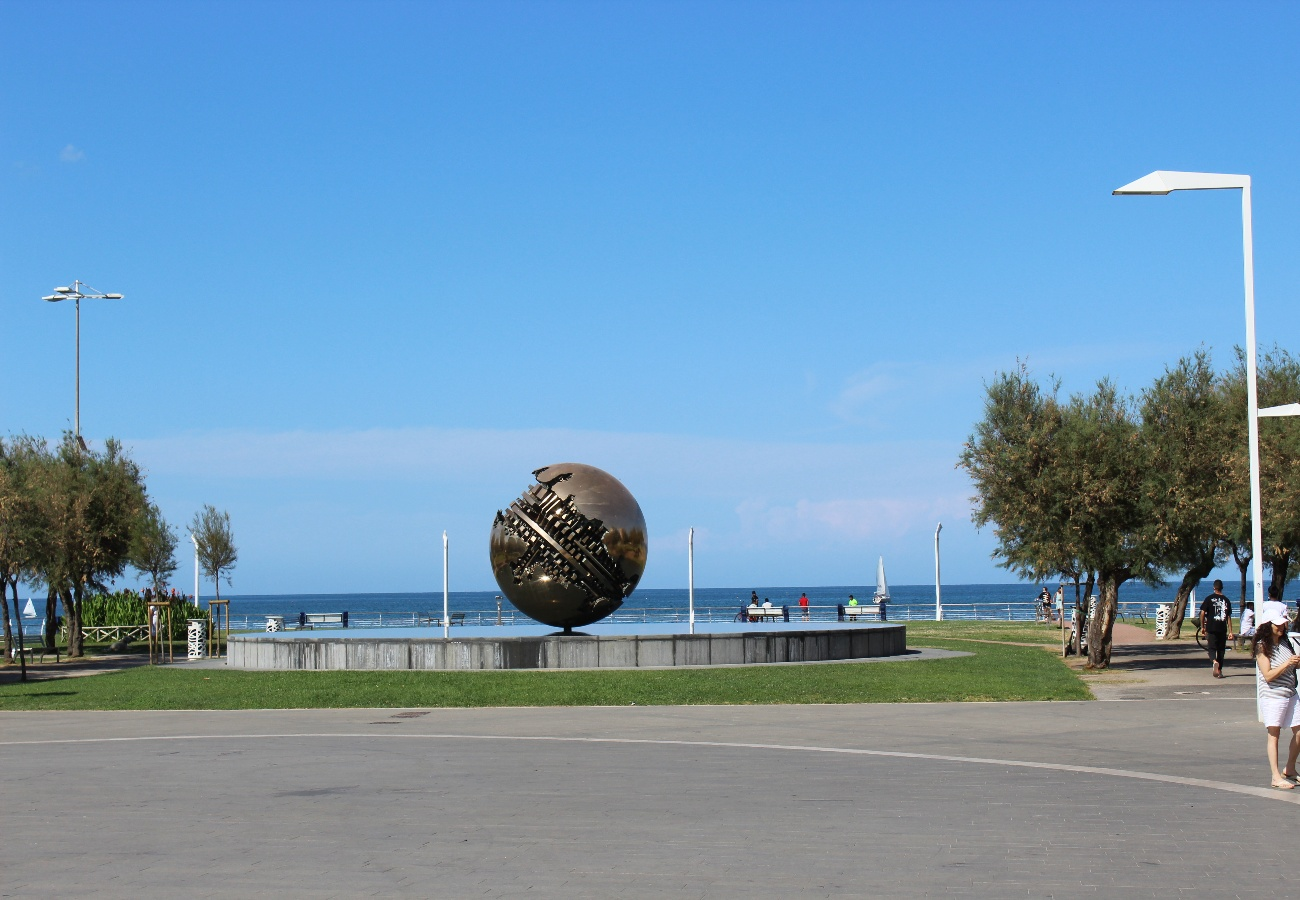Palla di Pomodoro: (485, 460, 651, 637)
